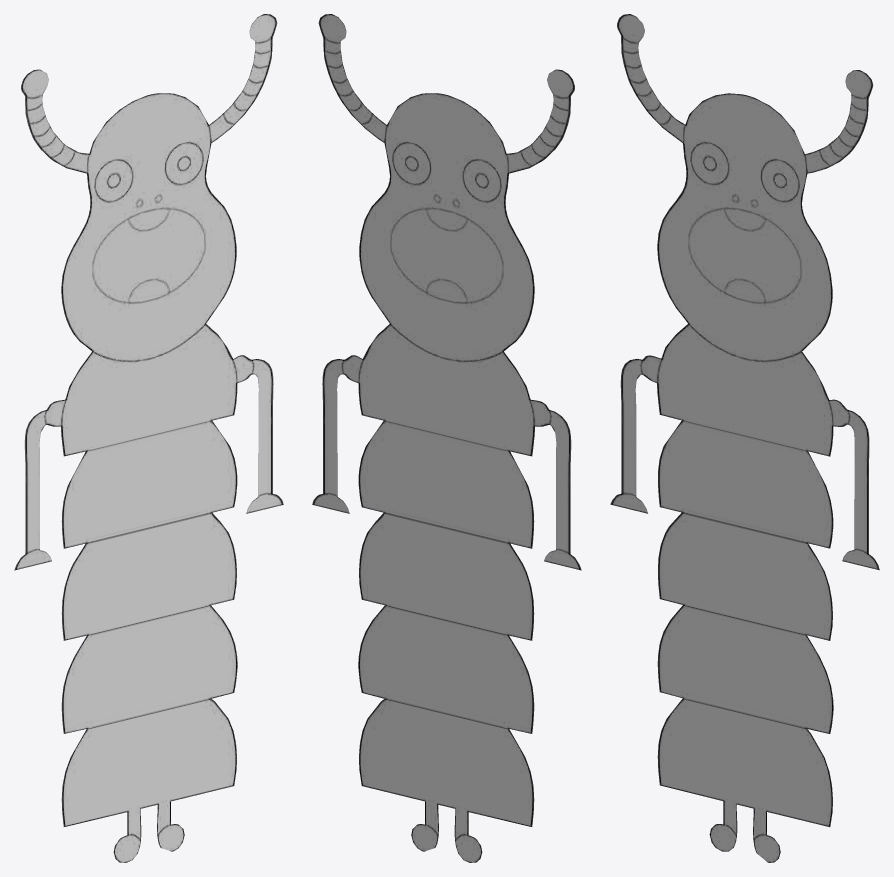
The model's file is 12_hoga_fix.fbx.
3 renders of one model, left to right at view 1: azimuth 30°, elevation 25°; view 2: azimuth 150°, elevation 25°; view 3: azimuth 330°, elevation 25°, orthographic.
Visible parts, largest first — view 1: planarTrimmedSurface30; view 2: planarTrimmedSurface30; view 3: planarTrimmedSurface30.
Boxes of the visible parts, x1,y1,x2,y2 form: planarTrimmedSurface30: (14, 14, 283, 862); planarTrimmedSurface30: (312, 14, 581, 862); planarTrimmedSurface30: (610, 14, 879, 862).
Size of the model in its own units: 7.59 by 21.92 by 9.58e-07.
1 material, 1 textured.
